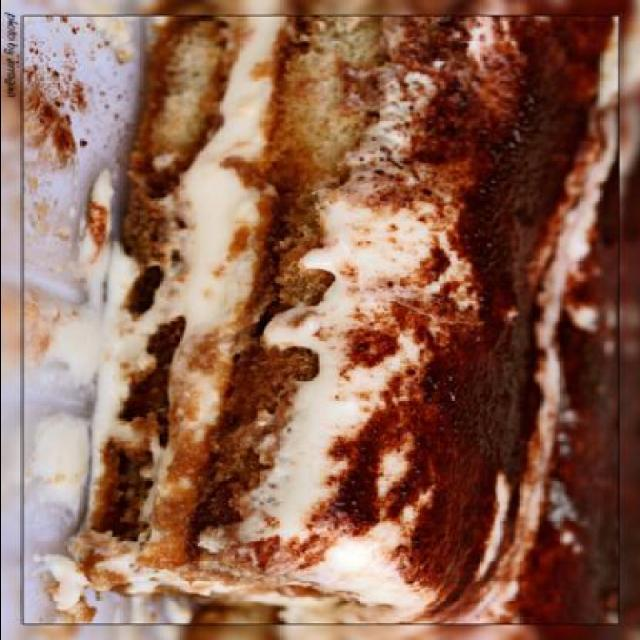Tiramisu: (64, 21, 596, 594)
